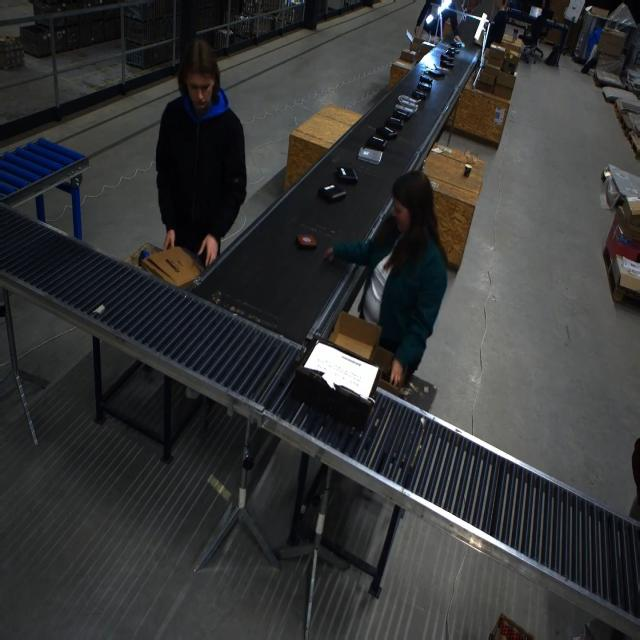box: (142, 246, 205, 290), (328, 311, 379, 362)
product: (291, 231, 318, 253), (317, 183, 346, 203), (335, 166, 358, 185), (357, 147, 382, 164), (396, 92, 419, 110), (365, 135, 386, 151), (424, 67, 444, 83), (377, 125, 397, 140), (385, 116, 404, 130), (394, 107, 413, 120), (411, 89, 427, 101), (439, 53, 453, 66), (418, 75, 432, 86), (445, 47, 458, 56)
